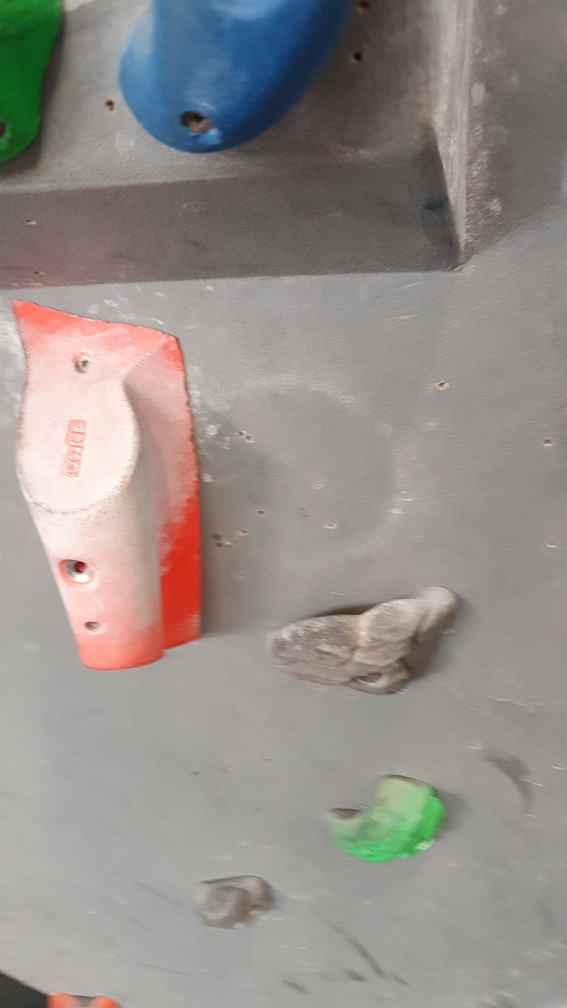Jug: (262, 585, 463, 697), (323, 774, 446, 869)
Pinch: (4, 292, 206, 672)
